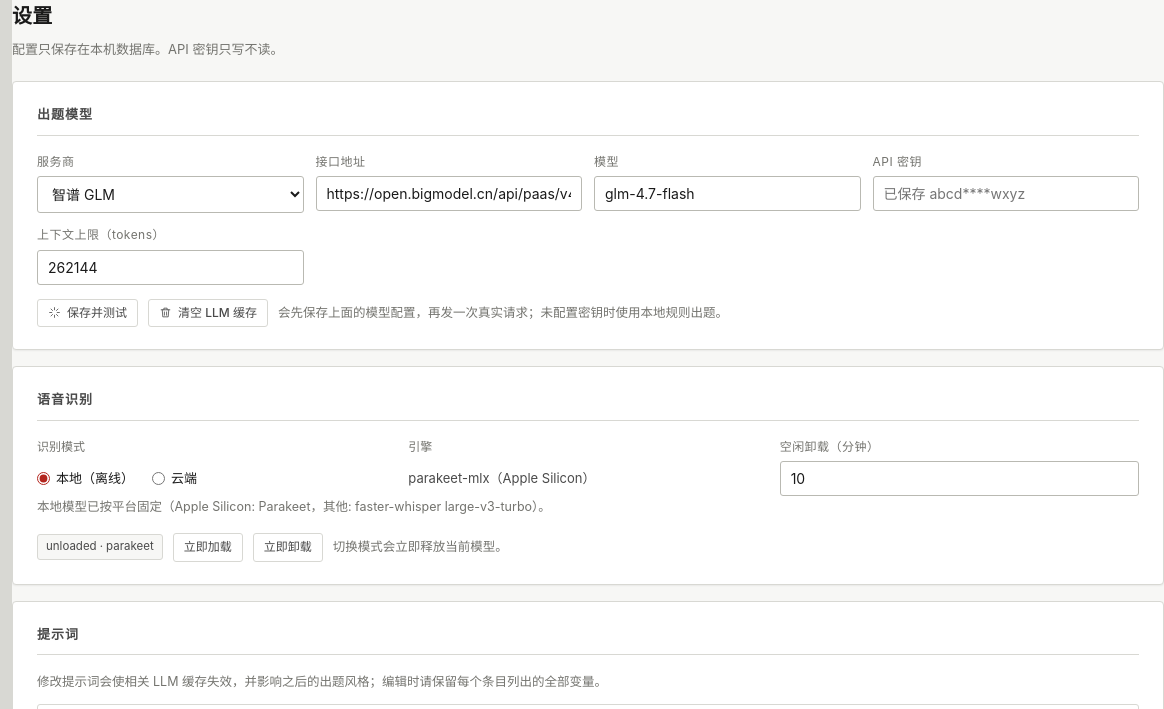
Test: SettingsView › tests the cloud engine with unsaved form values and shows the message verbatim
The image size is (1164, 709).
Click the radio button labelled "云端" at (158, 478), box [152, 472, 165, 485]
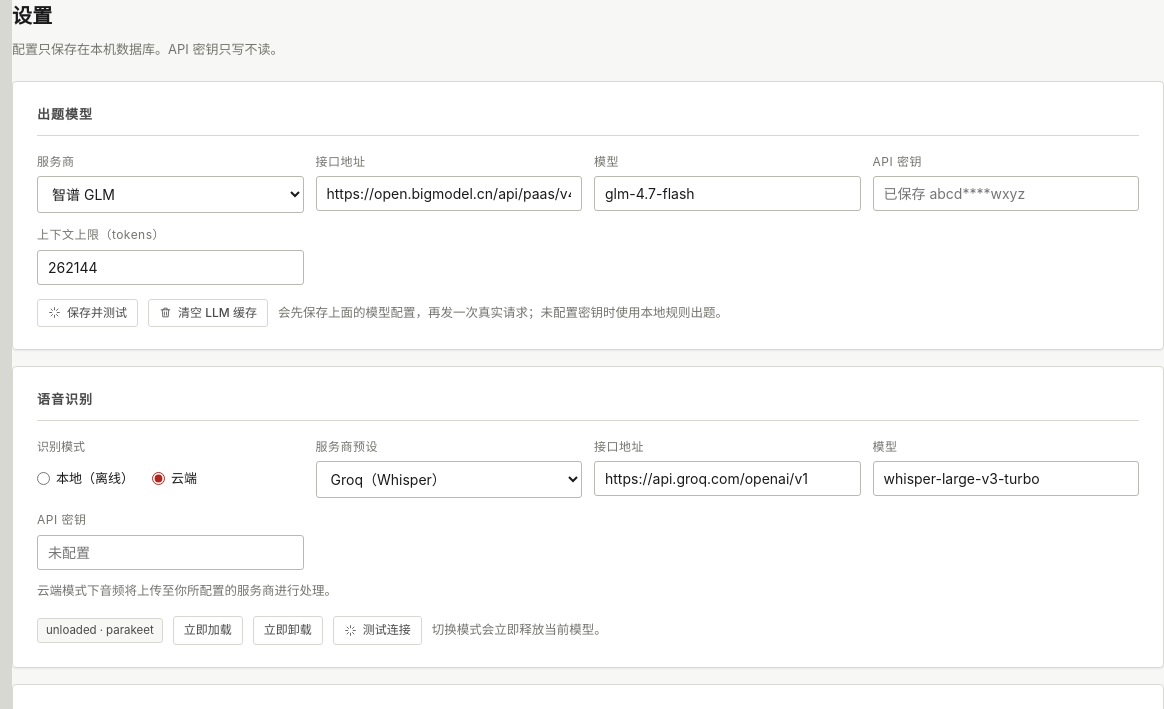
Type "sk-typed-in-form" into the password field labelled "API 密钥" below "本地（离线）" at (170, 552), box [37, 534, 304, 570]
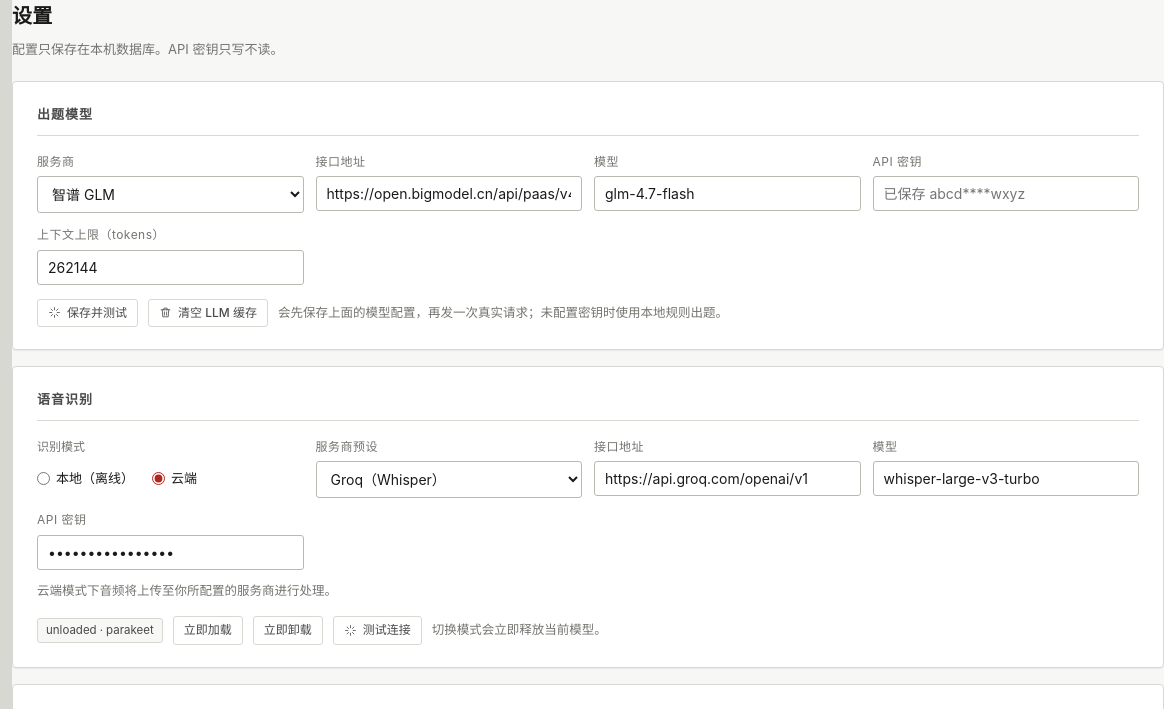
Click the button "测试连接" at (377, 630), box [333, 616, 422, 645]
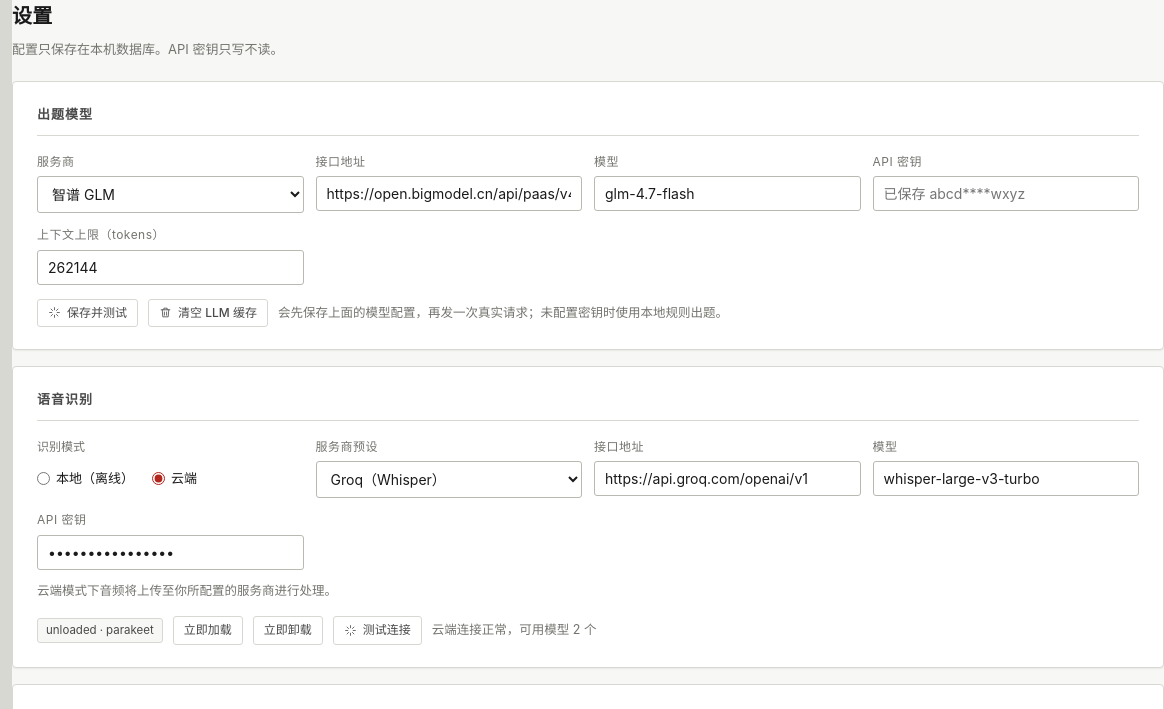
Expected: the text "云端连接正常，可用模型 2 个" is shown, [432, 619, 596, 642]
